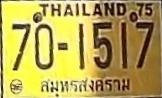0: (34, 23, 53, 69)
1: (78, 23, 84, 69), (121, 22, 126, 68)
5: (92, 21, 112, 68)
7: (11, 23, 31, 71), (135, 21, 153, 68)
SKM: (37, 75, 137, 98)
